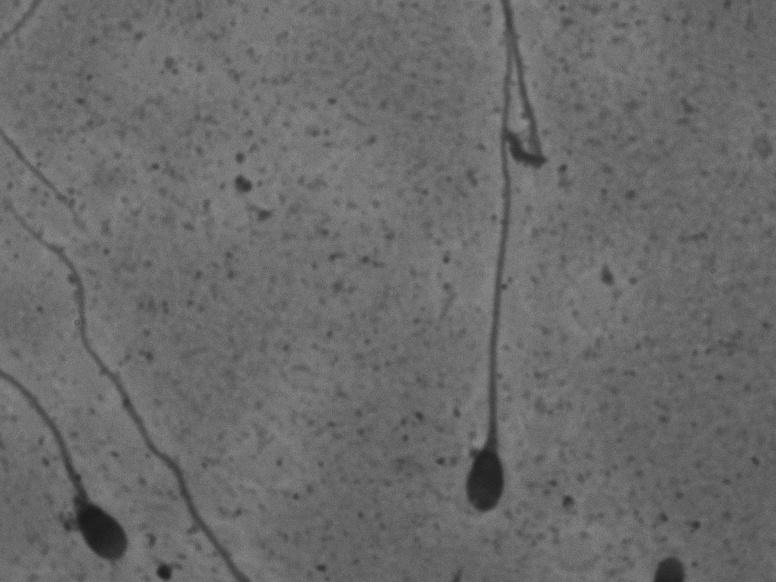Normal: (410, 18, 577, 548)
